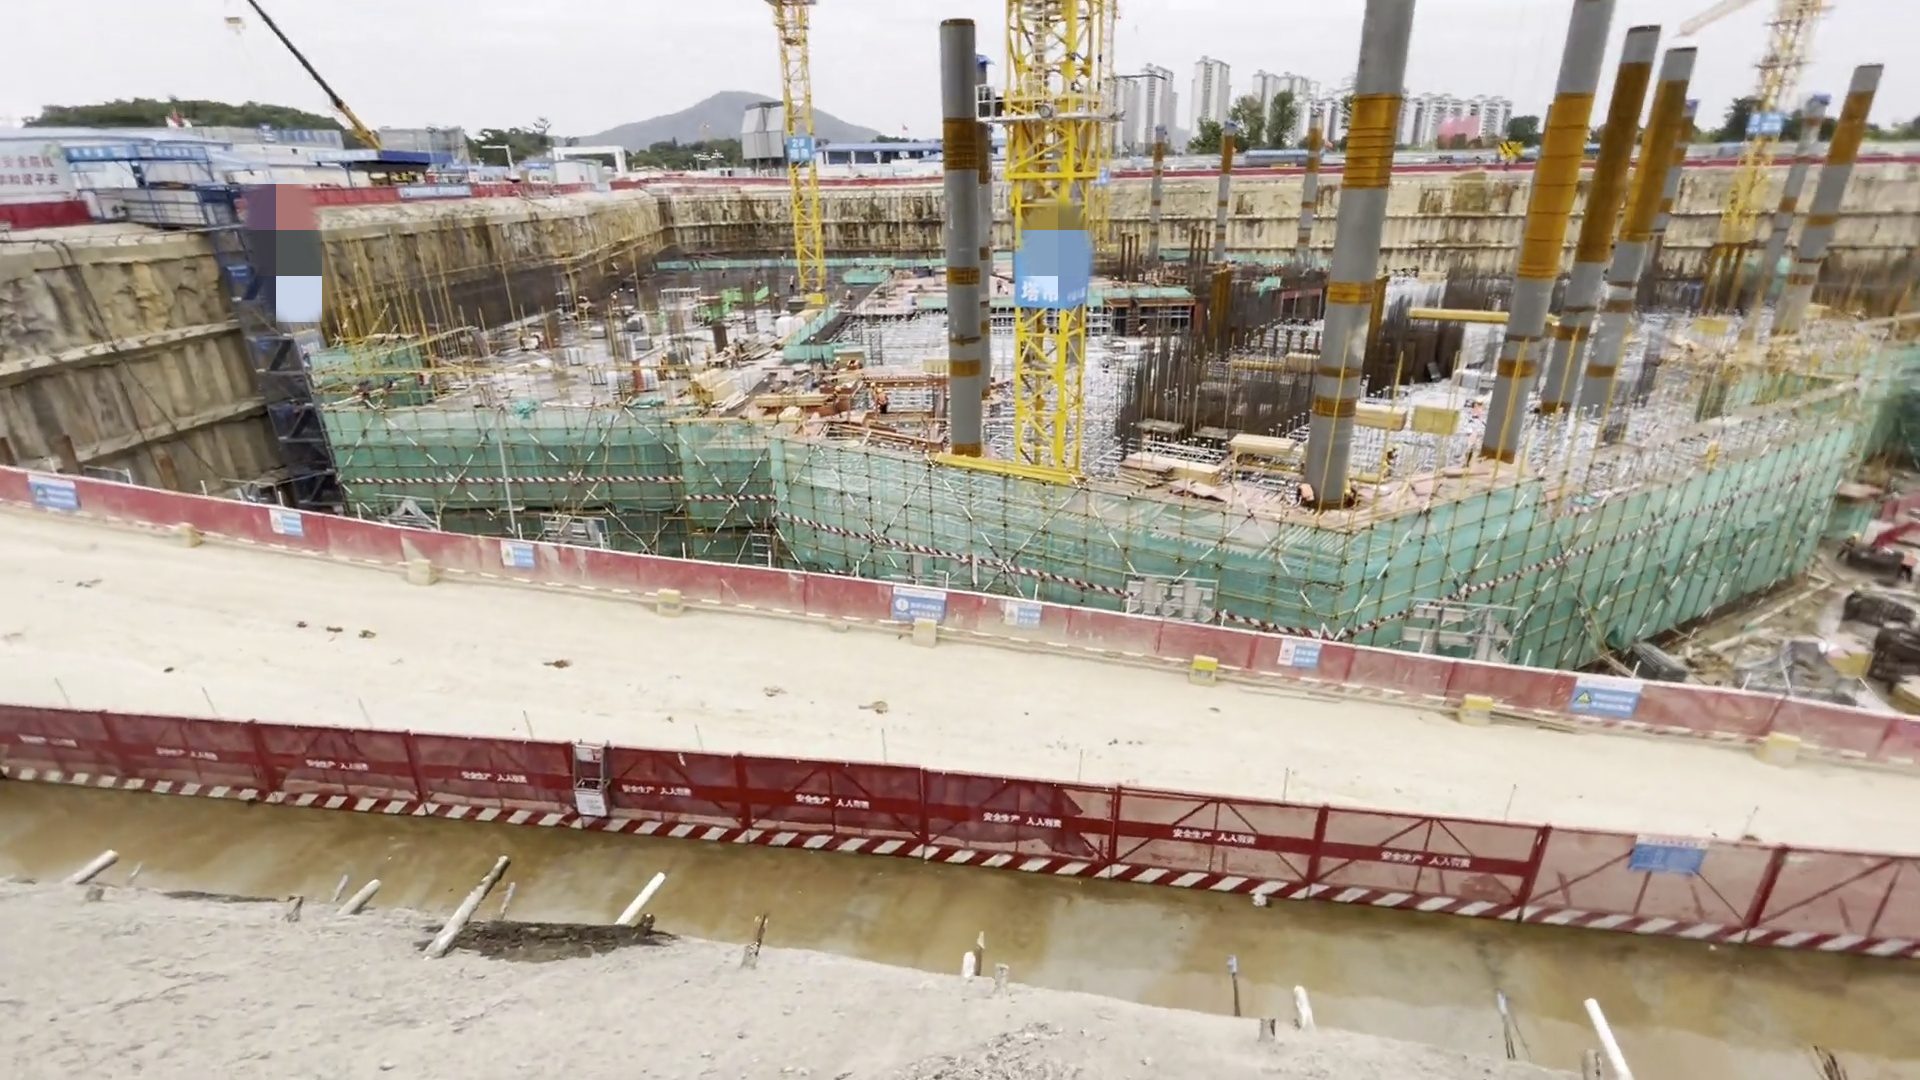fence: (1, 495, 1891, 975)
slogan: (1594, 806, 1722, 891), (1, 146, 87, 204), (885, 578, 961, 640), (3, 465, 84, 516), (1575, 673, 1638, 723), (258, 506, 323, 542), (1284, 629, 1327, 679), (487, 539, 545, 571), (1001, 599, 1052, 632)
